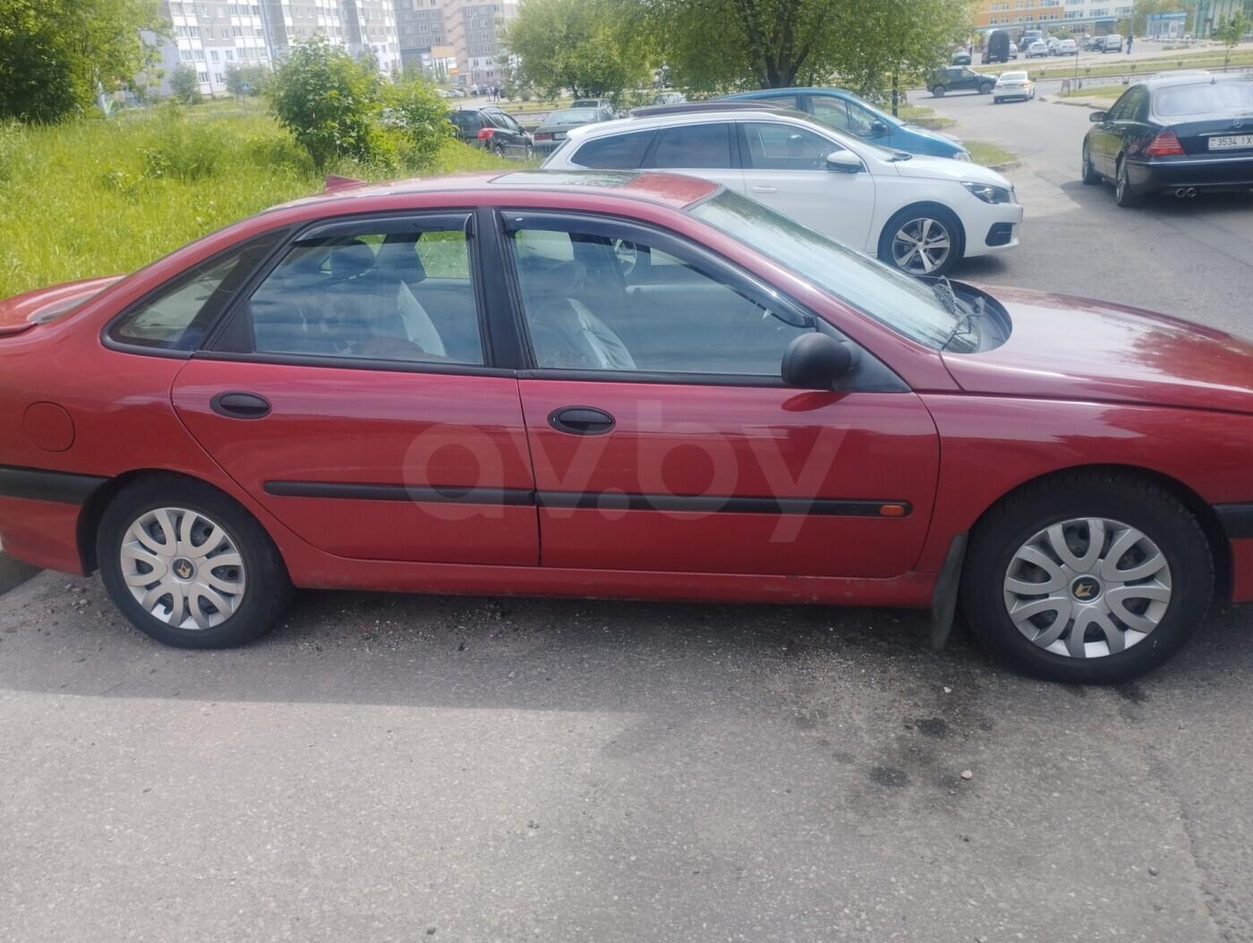Lahuna_1993-1999: (0, 166, 1253, 706)
